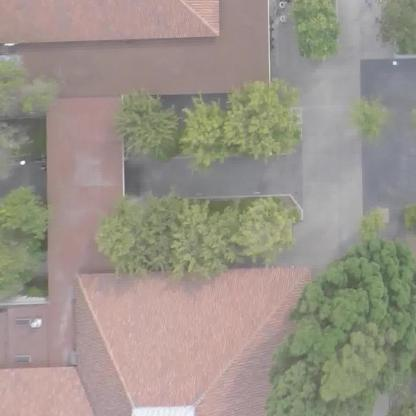Pedestrian: (37, 160, 48, 172)
